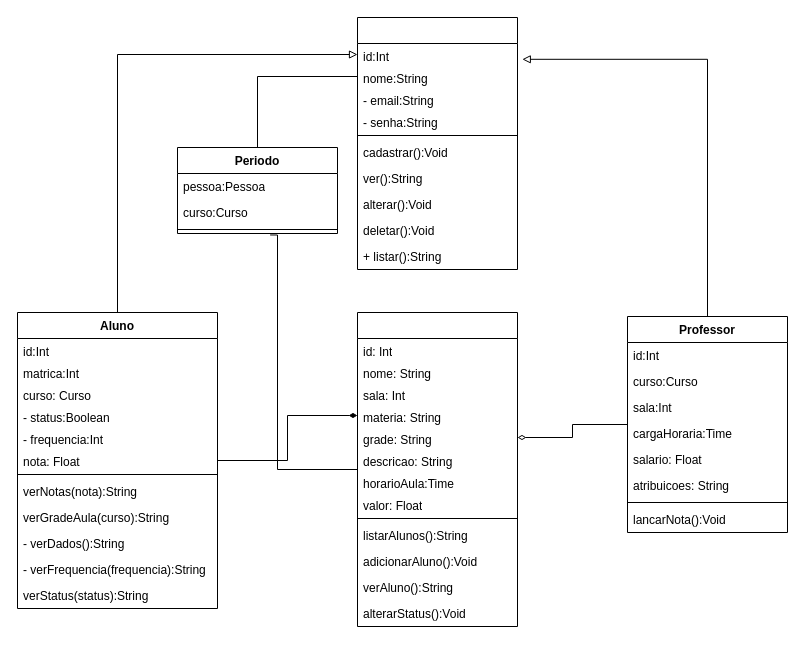
Some shapes in this 805 by 647 pixel diagram are drawn without their labels. The box of each missing label's shape, as (x1, y1, x2, y2) in pixels:
Curso: (356, 312, 518, 626)
Pessoa: (356, 16, 518, 270)
